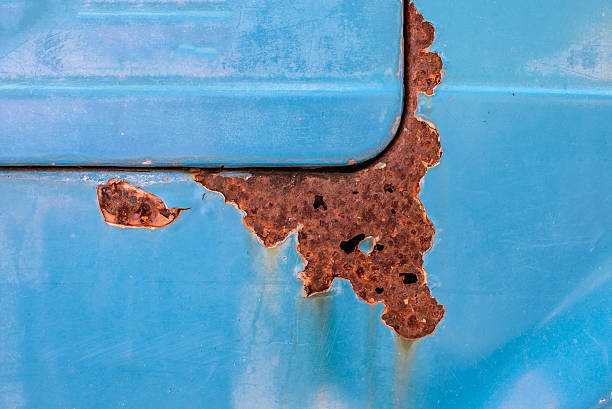rust: (200, 171, 479, 347), (406, 8, 451, 174), (77, 172, 190, 233)
